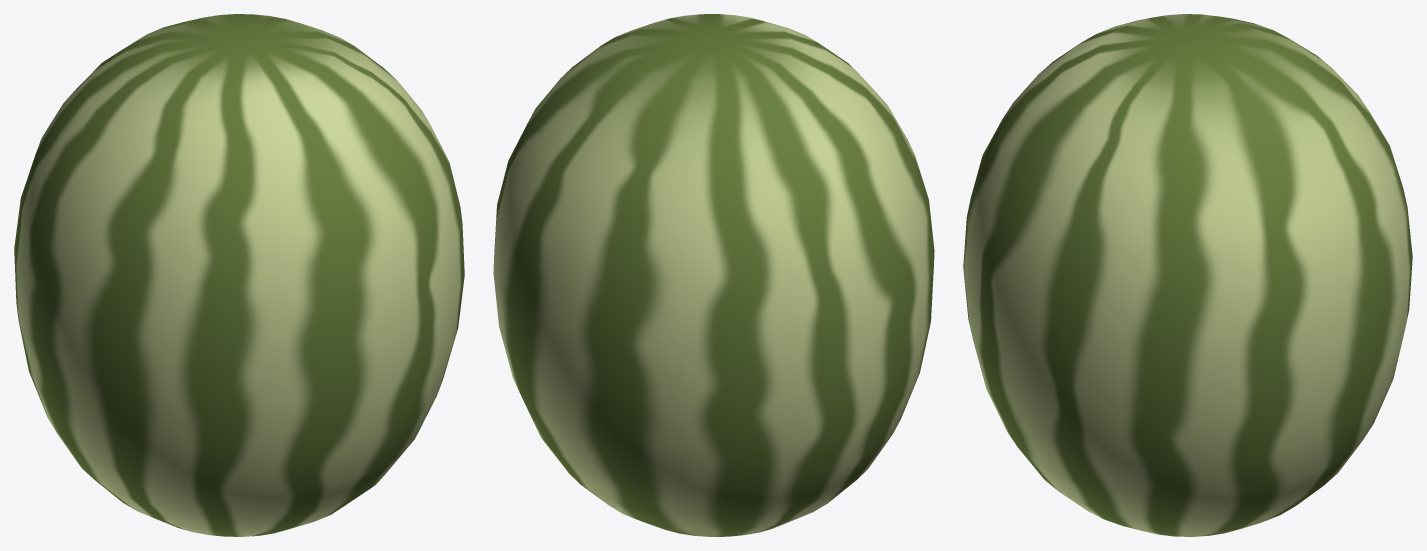
Rendered from melonUnripe.fbx.
3 views of the same model, side by side, from view 1: azimuth 30°, elevation 25°; view 2: azimuth 150°, elevation 25°; view 3: azimuth 270°, elevation 25° (orthographic).
Visible parts, largest first — view 1: melonUnripe; view 2: melonUnripe; view 3: melonUnripe.
Boxes of the visible parts, box(x1,y1,x2,y2) form: melonUnripe: box(14, 14, 464, 536); melonUnripe: box(493, 14, 934, 536); melonUnripe: box(963, 14, 1412, 536).
Size of the model in its own units: 0.2316 by 0.2726 by 0.2317.
1 material, 1 textured.
